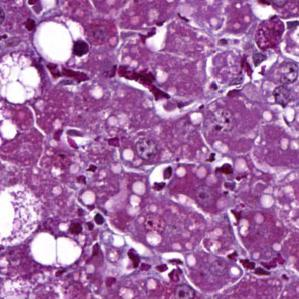ballooning: (1, 182, 43, 250), (3, 53, 43, 106)
